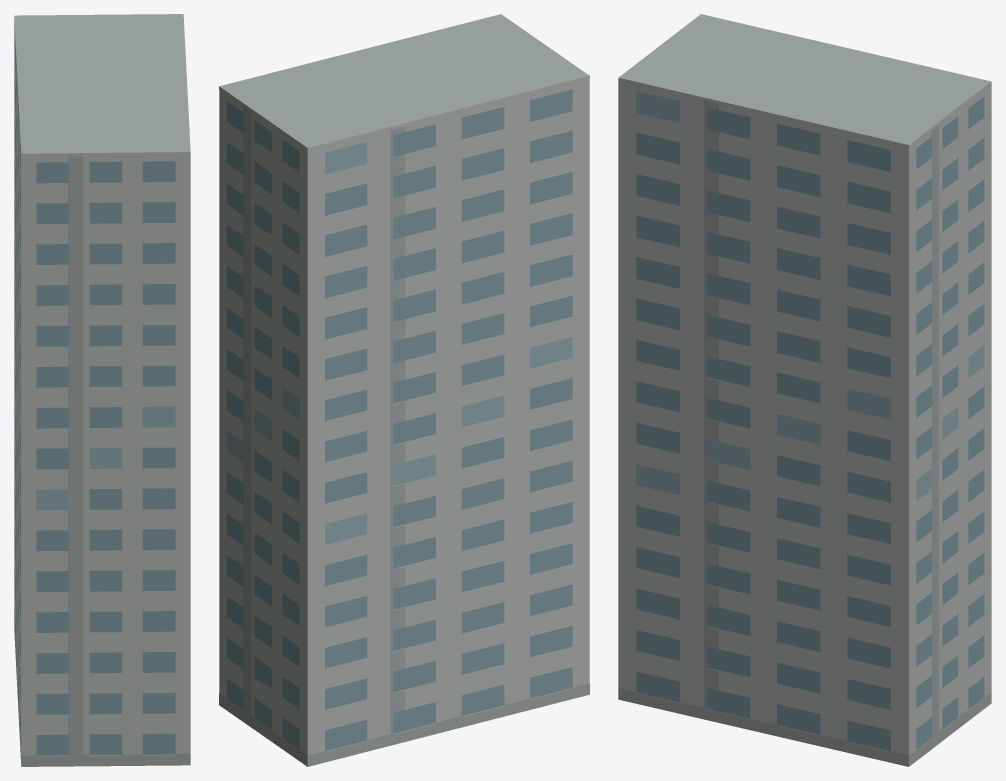
Rendered from residential-85a06a6a-b1f6-4de0-b332-ed230baff662.glb.
3 views of the same model, side by side, from view 1: azimuth 30°, elevation 25°; view 2: azimuth 150°, elevation 25°; view 3: azimuth 270°, elevation 25° (orthographic).
Parts seen in each view (by area): view 1: residential-85a06a6a-b1f6-4de0-b332-ed230baff662.tmp; view 2: residential-85a06a6a-b1f6-4de0-b332-ed230baff662.tmp; view 3: residential-85a06a6a-b1f6-4de0-b332-ed230baff662.tmp.
Boxes of the visible parts, bbox=[...] form: residential-85a06a6a-b1f6-4de0-b332-ed230baff662.tmp: bbox=[14, 14, 190, 766]; residential-85a06a6a-b1f6-4de0-b332-ed230baff662.tmp: bbox=[219, 14, 589, 766]; residential-85a06a6a-b1f6-4de0-b332-ed230baff662.tmp: bbox=[618, 14, 991, 766].
Size of the model in its own units: 21.25 by 47 by 25.57.
